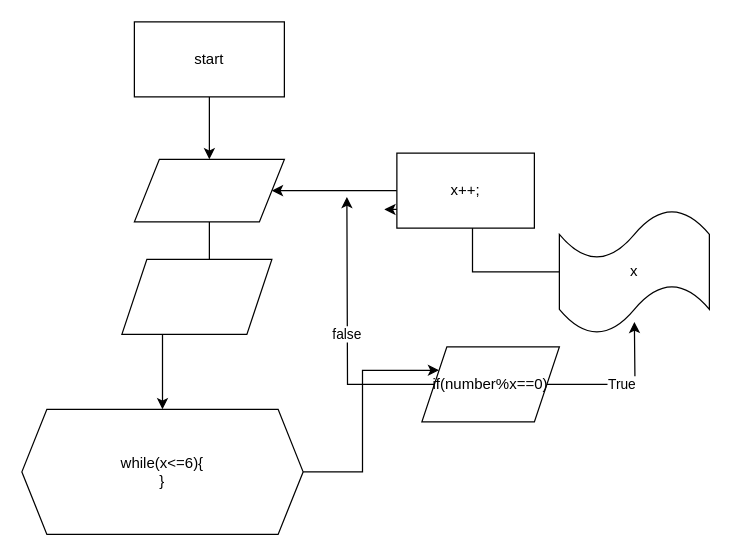
Image size: 731x556. Some labels were removed from this diagram. Each missing label, with the centre of its shape:
"Number=6 x=-6;" goes at pixel 208 190.
"x==o{ x++ }" goes at pixel 196 296.
